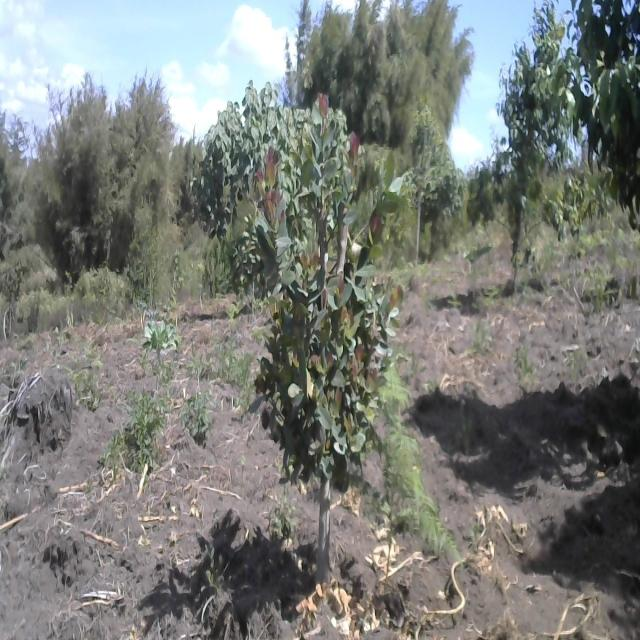Lemon Myrtle: (480, 6, 606, 299)
other: (237, 112, 415, 560), (196, 78, 336, 278)
